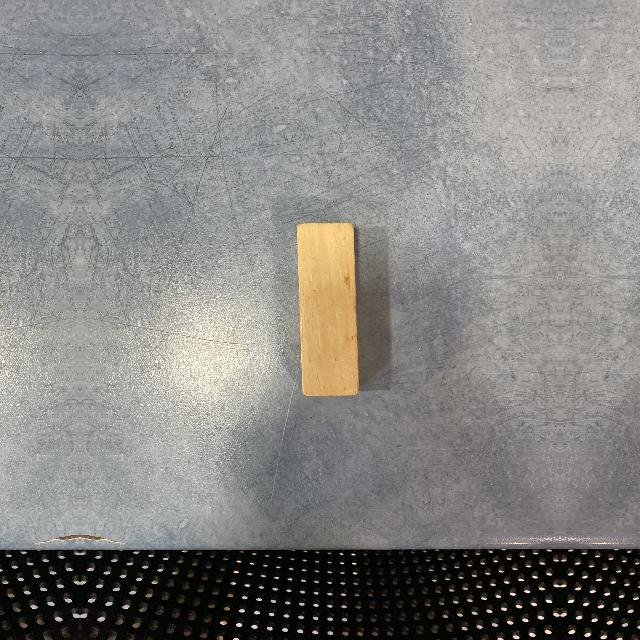jenga: (297, 220, 356, 398)
